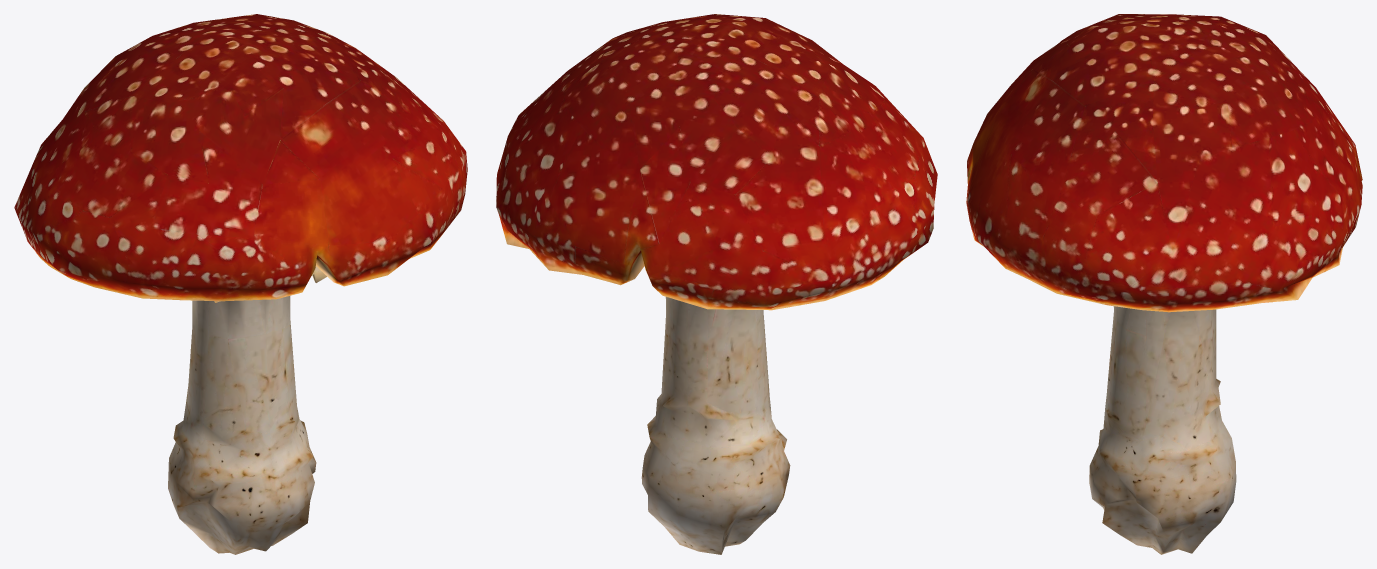
Rendered from mushroom_red.glb.
The picture shows the model from 3 angles, left to right: view 1: azimuth 30°, elevation 25°; view 2: azimuth 150°, elevation 25°; view 3: azimuth 270°, elevation 25°; orthographic projection.
Parts seen in each view (by area): view 1: geometry_0; view 2: geometry_0; view 3: geometry_0.
Boxes of the visible parts, bbox=[...] form: geometry_0: bbox=[14, 14, 467, 554]; geometry_0: bbox=[496, 14, 937, 554]; geometry_0: bbox=[966, 14, 1362, 554].
Bounding box in the file's own units: 0.7856 × 0.9512 × 0.666.
1 material, 1 textured.
